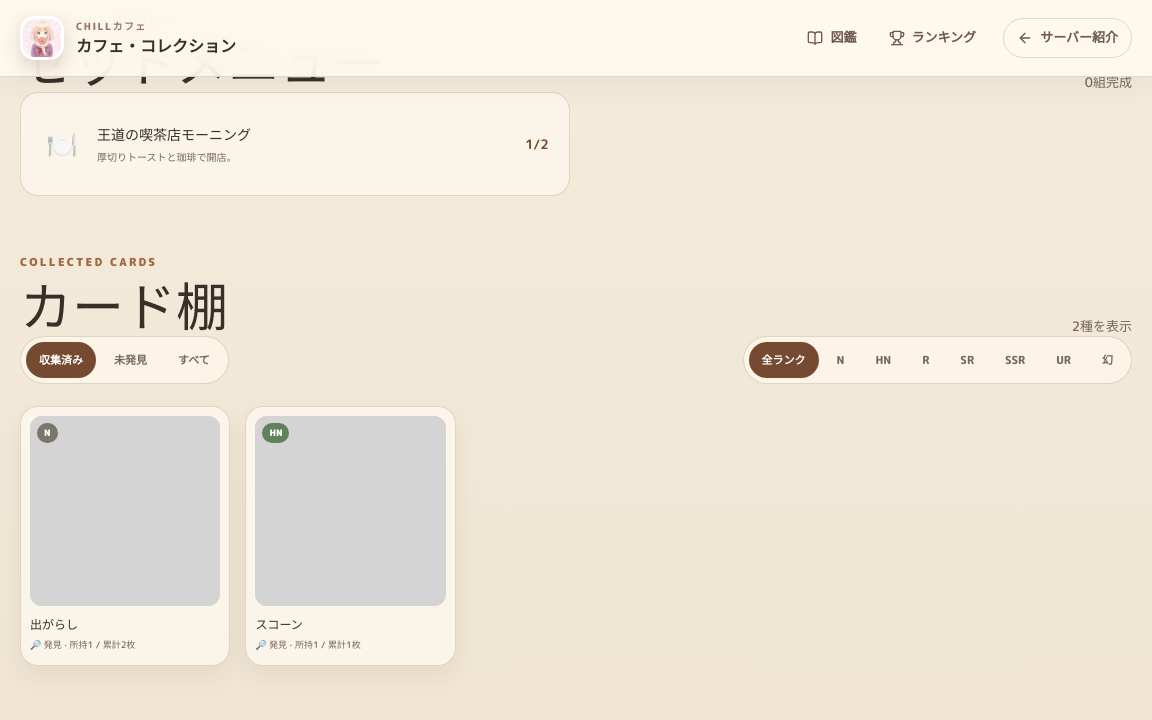
Scenario: CafeProfilePage › shows a ranked member's cards, set progress, and missing-card filter
(page scrolled)
Expected: the text "1/2" is shown, [525, 135, 548, 154]
Expected: the heading "出がらし" is shown, [30, 616, 78, 634]
Click the button "未発見".
click(130, 360)  # box [101, 342, 160, 378]
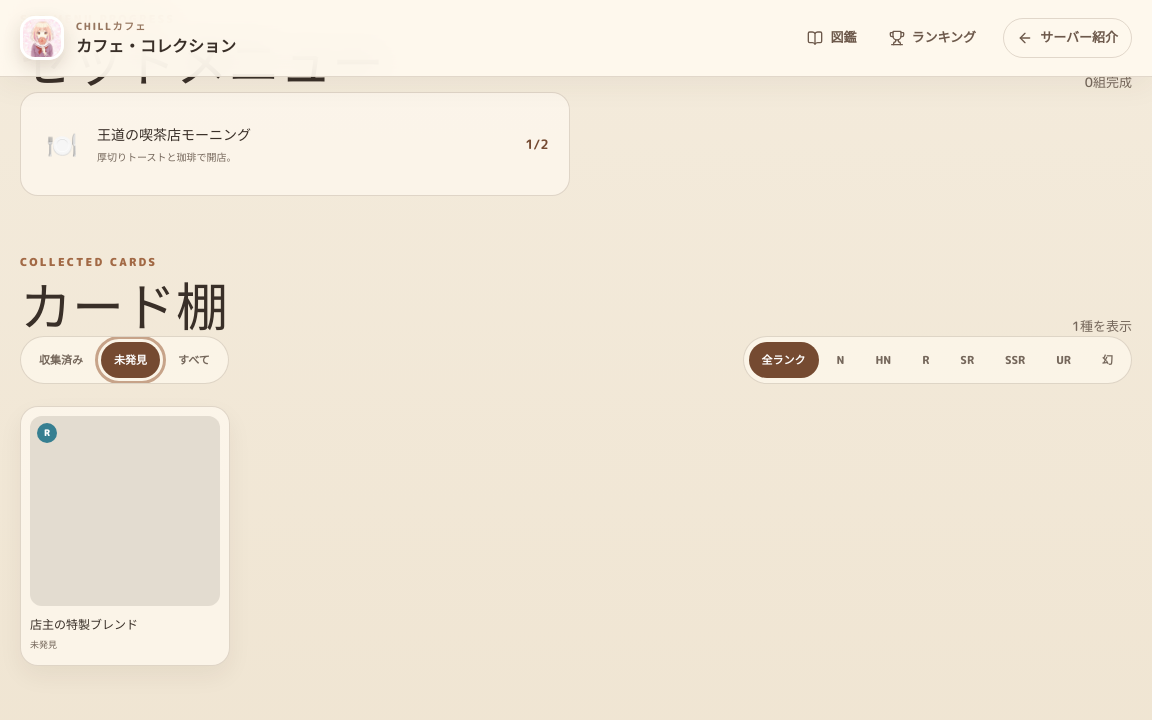
Result: the heading "店主の特製ブレンド" is shown at [30, 616, 138, 634]
Result: the link "出がらし" is gone
